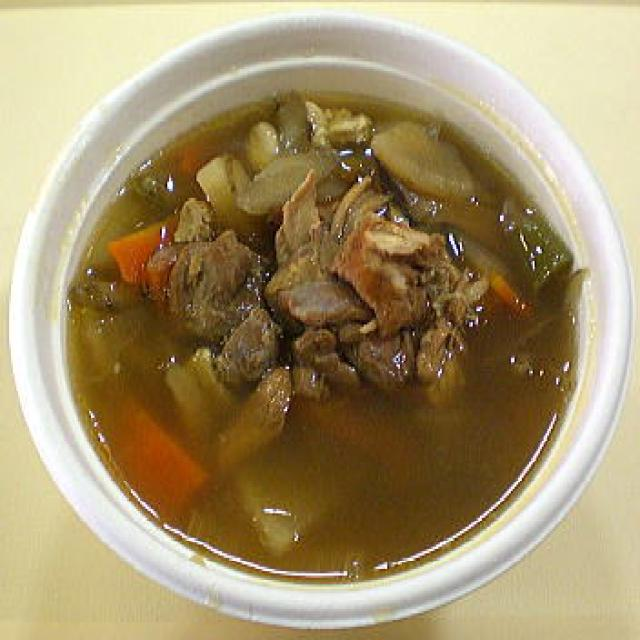蔬菜料理: (13, 0, 631, 629)
